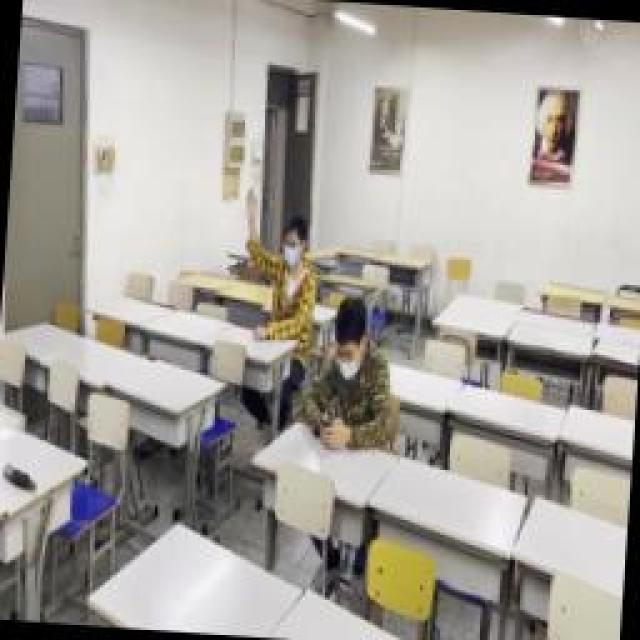phone: (305, 295, 397, 453)
study: (232, 185, 320, 340)
